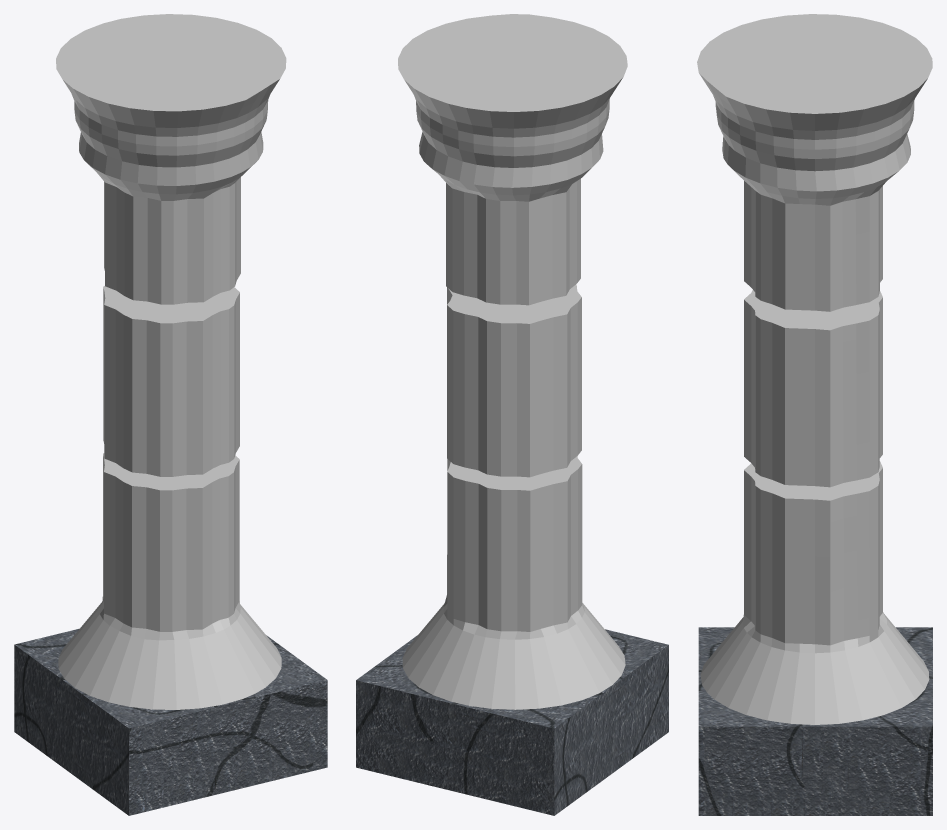
The model's file is Przeszkoda(filar) — ruiny.fbx.
3 views of the same model, side by side, from view 1: azimuth 30°, elevation 25°; view 2: azimuth 150°, elevation 25°; view 3: azimuth 270°, elevation 25° (orthographic). The views are drawn at different scales.
Parts seen in each view (by area): view 1: CzescGorna, Dolna czesc, Podstawka, CzescSrodkowa; view 2: CzescGorna, Dolna czesc, Podstawka, CzescSrodkowa; view 3: CzescGorna, Dolna czesc, Podstawka, CzescSrodkowa.
Part boxes in pixels (x1,y1,x2,y2): CzescGorna: [56, 14, 286, 304]; Dolna czesc: [58, 453, 281, 709]; Podstawka: [14, 628, 327, 815]; CzescSrodkowa: [103, 286, 239, 476]; CzescGorna: [398, 14, 627, 305]; Dolna czesc: [402, 456, 625, 709]; Podstawka: [356, 629, 668, 815]; CzescSrodkowa: [447, 284, 581, 477]; CzescGorna: [697, 14, 932, 311]; Dolna czesc: [700, 461, 929, 724]; Podstawka: [698, 627, 932, 815]; CzescSrodkowa: [744, 290, 882, 487].
Bounding box in the file's own units: 326 × 1070 × 325.
